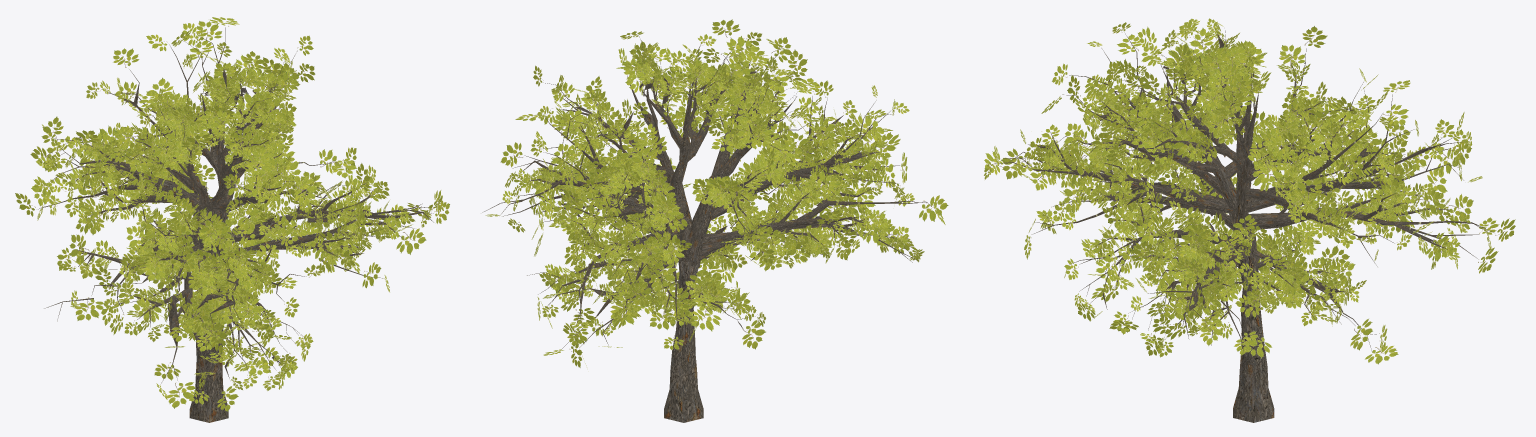
Rendered from Tree_2_1.glb.
The picture shows the model from 3 angles, left to right: view 1: azimuth 30°, elevation 25°; view 2: azimuth 150°, elevation 25°; view 3: azimuth 270°, elevation 25°; orthographic projection. The views are drawn at different scales.
Parts seen in each view (by area): view 1: Tree_2_V1; view 2: Tree_2_V1; view 3: Tree_2_V1.
Boxes of the visible parts, box(x1,y1,x2,y2) form: Tree_2_V1: box(15, 17, 449, 422); Tree_2_V1: box(482, 19, 948, 422); Tree_2_V1: box(984, 18, 1515, 422).
Bounding box in the file's own units: 7.99 × 6.79 × 8.71.
Materials: 1 (1 with a texture image).
